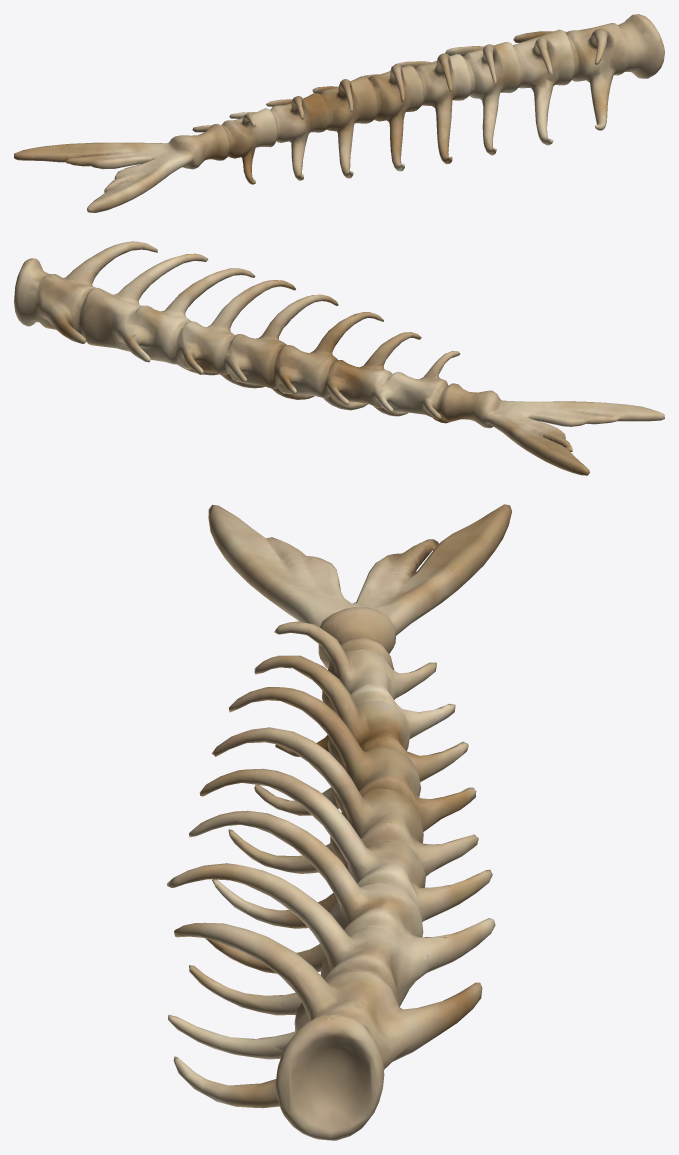
File: bone_spine_s.glb
3 renders of one model, top to bottom at view 1: azimuth 30°, elevation 25°; view 2: azimuth 150°, elevation 25°; view 3: azimuth 270°, elevation 25°, orthographic. The views are drawn at different scales.
Parts seen in each view (by area): view 1: bone_spine_s; view 2: bone_spine_s; view 3: bone_spine_s.
Boxes of the visible parts, x1,y1,x2,y2 form: bone_spine_s: (14, 14, 664, 212); bone_spine_s: (14, 241, 664, 475); bone_spine_s: (166, 504, 511, 1140).
Size of the model in its own units: 0.3 by 0.0485 by 0.0755.
Materials: 1 (1 with a texture image).
